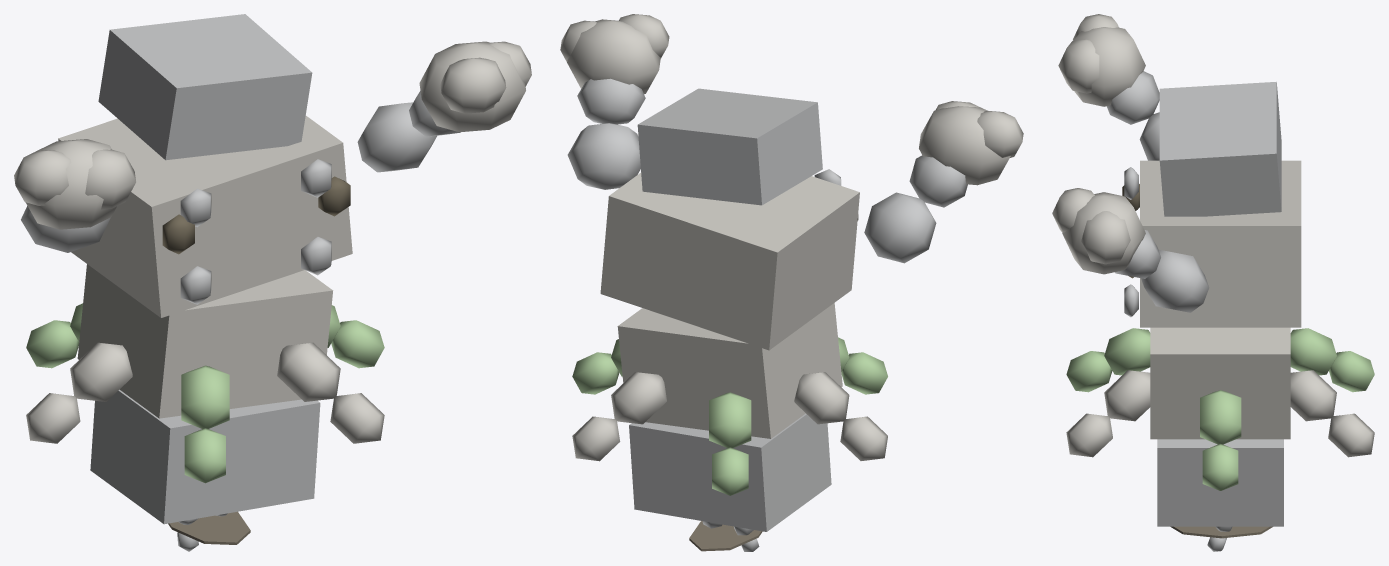
File: ironroot_colossus.fbx
3 renders of one model, left to right at view 1: azimuth 30°, elevation 25°; view 2: azimuth 150°, elevation 25°; view 3: azimuth 270°, elevation 25°, orthographic. The views are drawn at different scales.
Parts seen in each view (by area): view 1: PL_ironroot_colossus; view 2: PL_ironroot_colossus; view 3: PL_ironroot_colossus.
Boxes of the visible parts, <box> form: PL_ironroot_colossus: <box>14,14,531,551</box>; PL_ironroot_colossus: <box>560,14,1023,551</box>; PL_ironroot_colossus: <box>1052,14,1374,551</box>.
Size of the model in its own units: 192 by 179 by 120.
